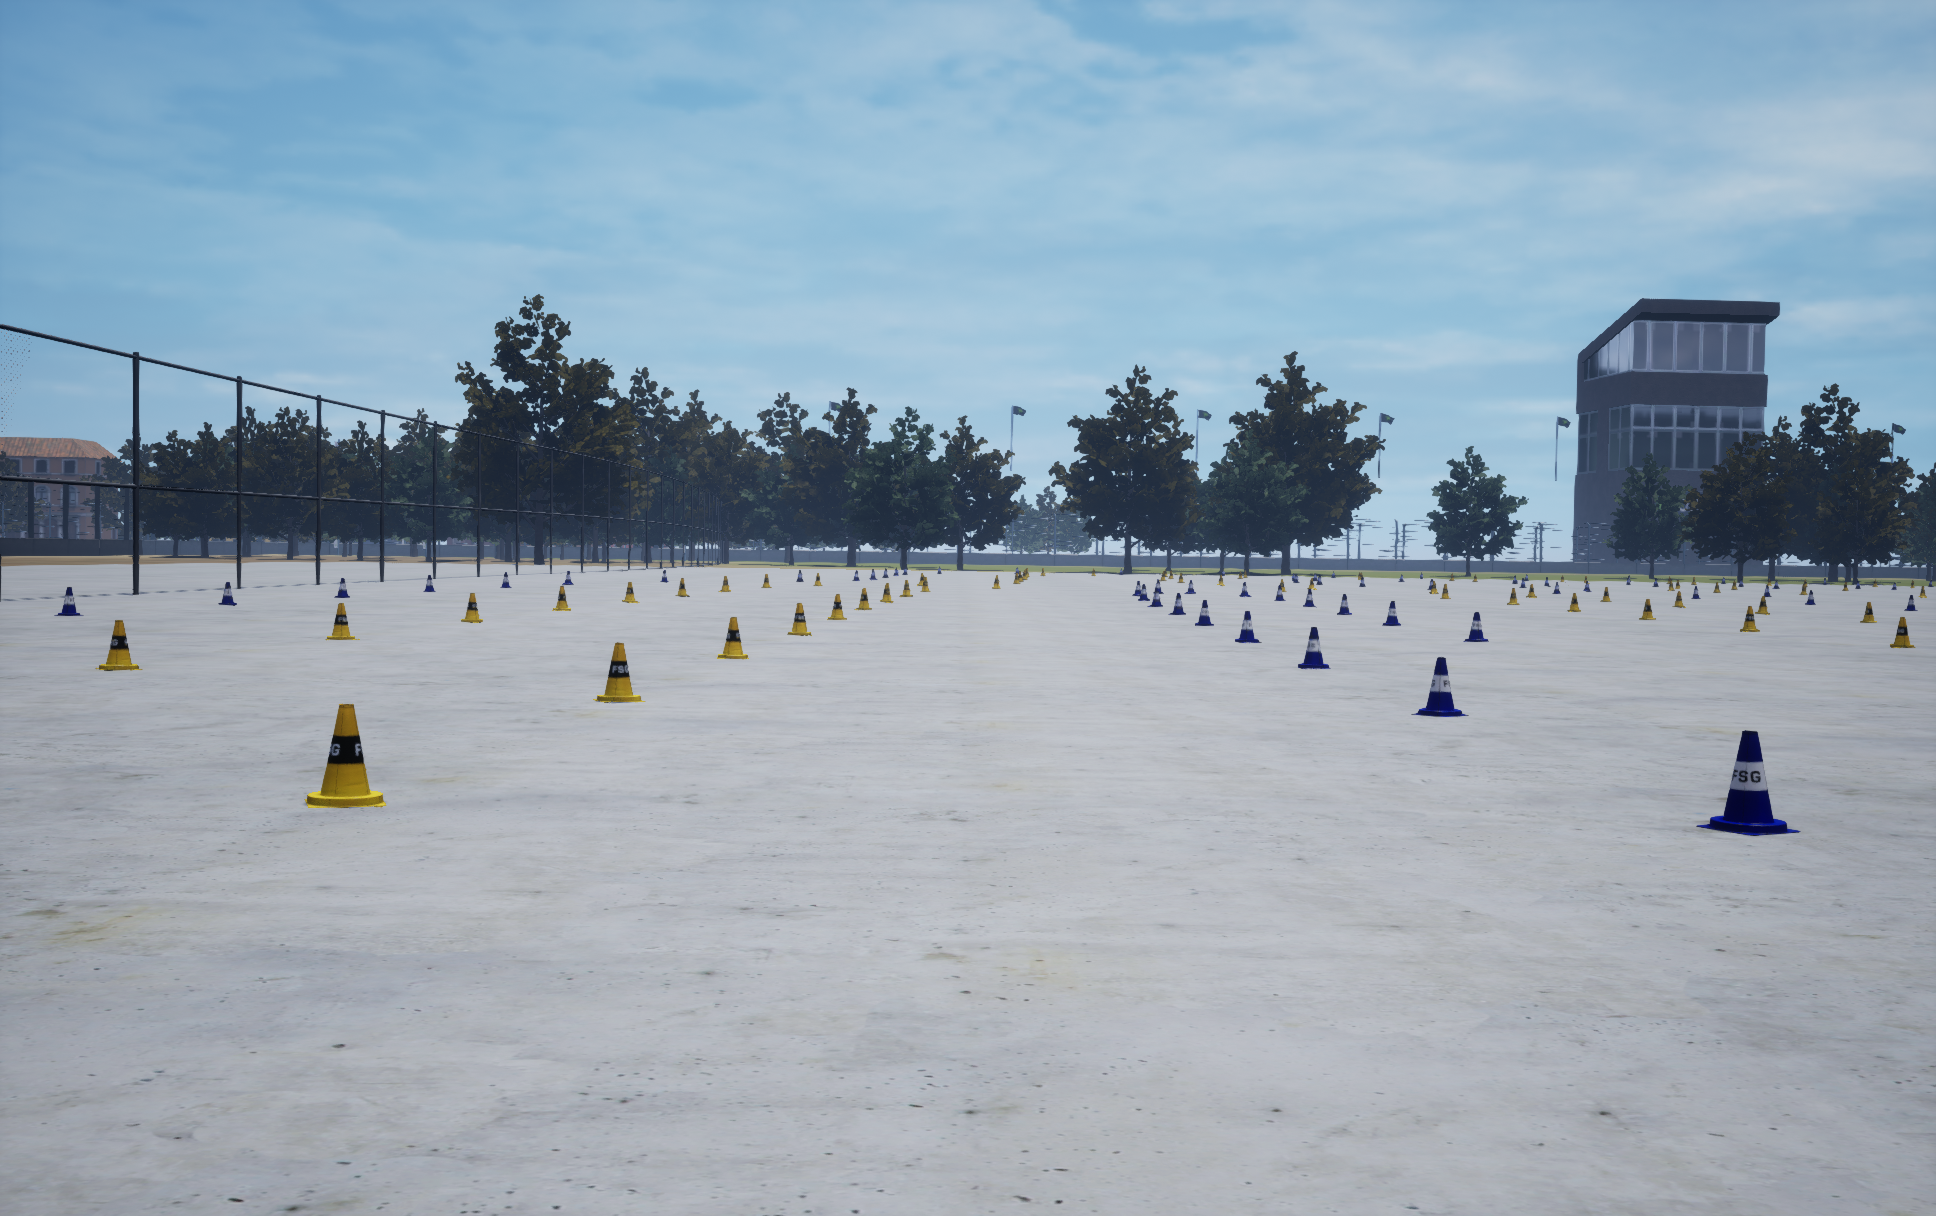blue: (304, 705, 387, 807), (593, 642, 644, 702), (95, 621, 141, 670), (717, 616, 748, 658), (325, 602, 359, 639), (1890, 616, 1915, 647), (787, 602, 811, 635), (461, 593, 482, 622), (827, 594, 846, 619), (1740, 607, 1759, 630), (552, 586, 570, 609), (855, 588, 871, 609), (622, 581, 639, 602), (1860, 602, 1876, 622), (1639, 600, 1654, 619), (880, 583, 892, 602), (675, 579, 689, 595), (1568, 593, 1580, 611)
yellow: (1696, 730, 1800, 835), (1411, 657, 1468, 716), (1299, 628, 1329, 668), (55, 587, 83, 615), (1236, 611, 1261, 642), (1463, 612, 1488, 642), (1195, 600, 1213, 625), (1383, 601, 1399, 625), (219, 581, 235, 605), (1168, 593, 1185, 614), (333, 579, 349, 597), (1336, 594, 1350, 614), (1147, 588, 1161, 607), (1303, 588, 1315, 607)
